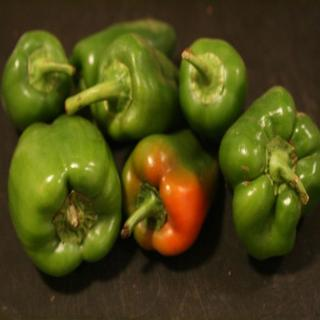Bell pepper: (0, 18, 320, 277), (218, 82, 320, 262)
